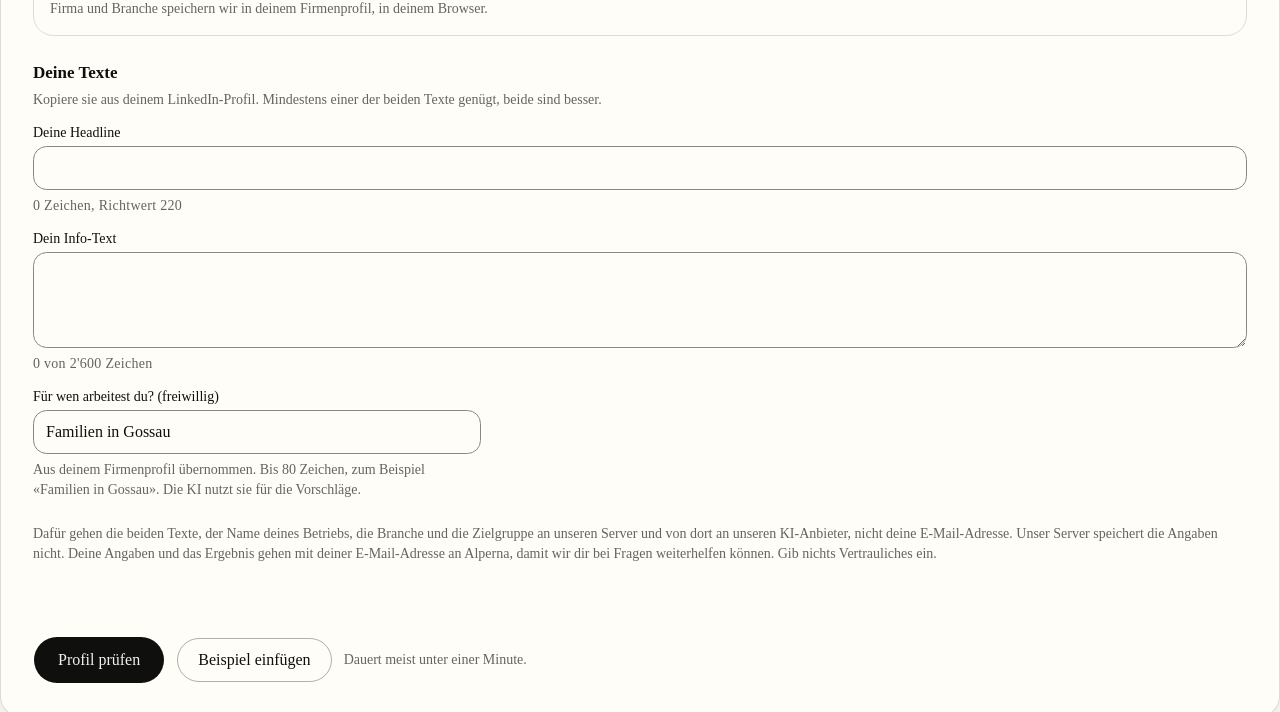
LinkedIn-Profil im Browser › holt die Vorschläge bei «Vorschläge neu schreiben» nach und schickt sie erneut ins CRM
This screenshot has width=1280, height=712.
(page scrolled)
What coordinates should you click on to do the following:
click the button "Beispiel einfügen"
I would click on:
 (254, 660)
Its box is [177,638,332,682].
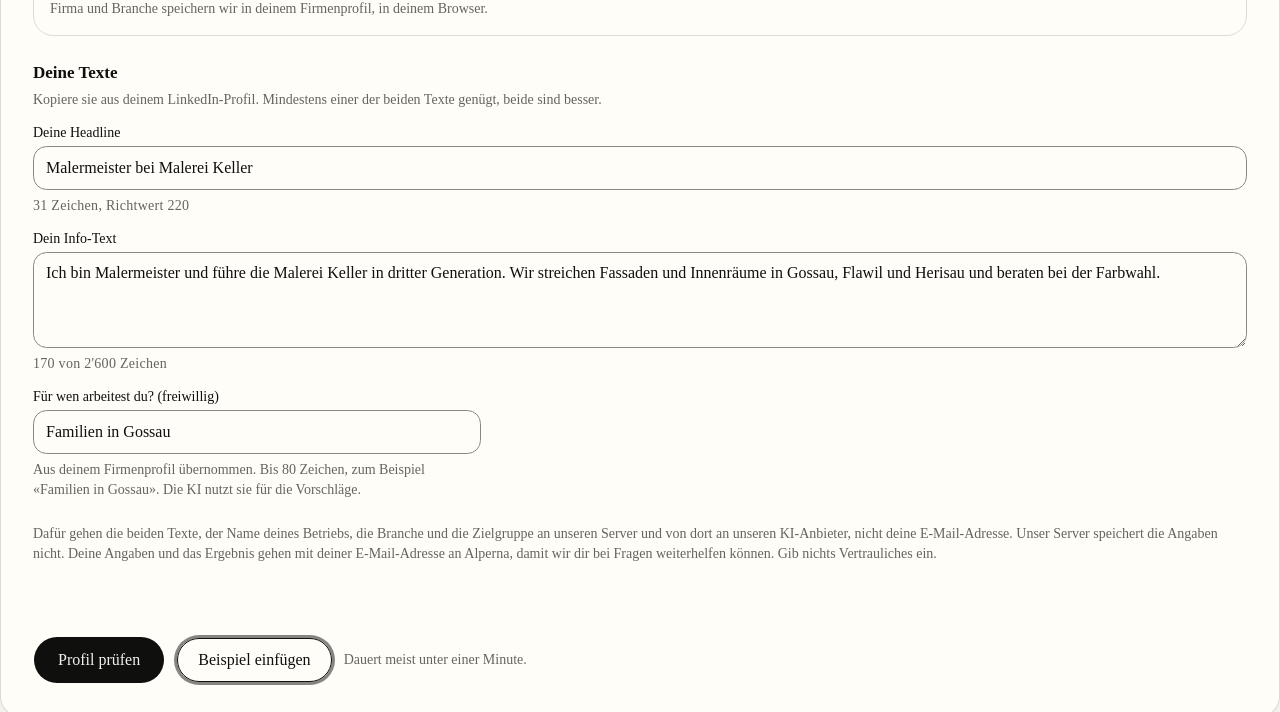
What coordinates should you click on to do the following:
click the button "Profil prüfen"
I would click on:
 (99, 660)
Its box is [33,636,165,684].
(page scrolled)
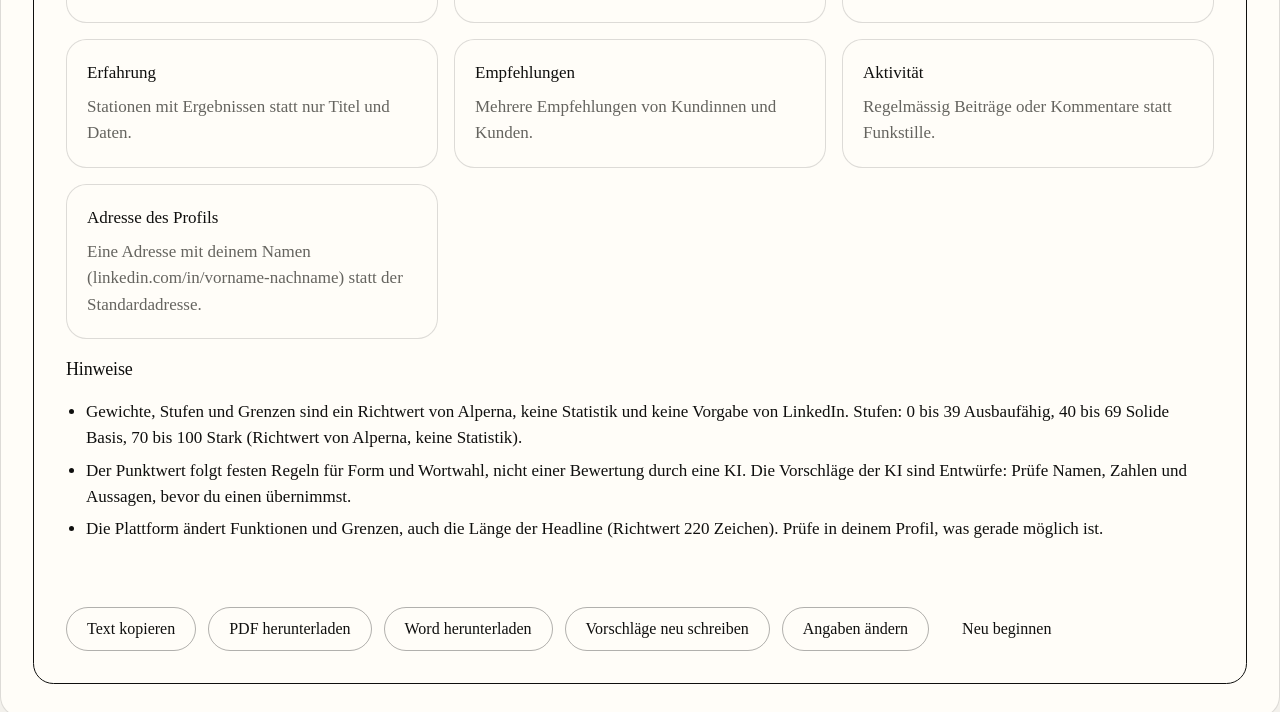
What coordinates should you click on to do the following:
click the button "Vorschläge neu schreiben"
I would click on:
 (667, 629)
Its box is [565,607,770,651].
(page scrolled)
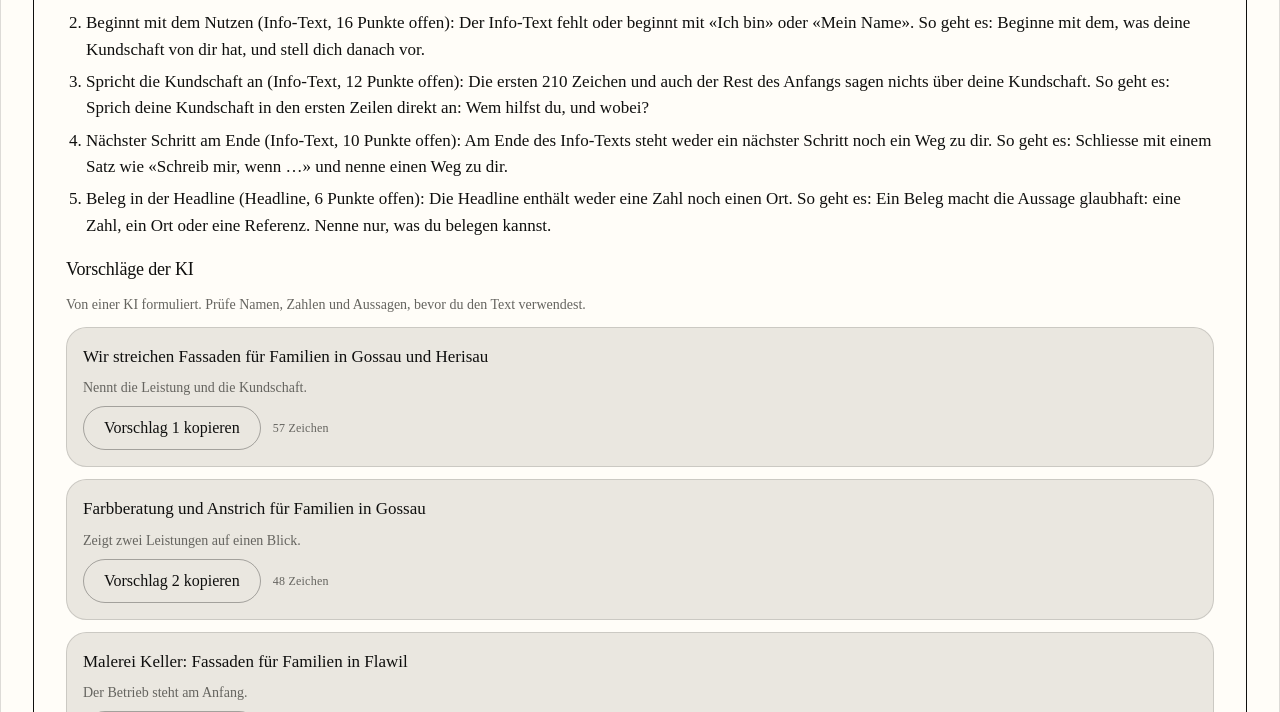
Check: the list item with test id "lp-headline-1" shows "Wir streichen Fassaden für Familien in Gossau und Herisau", box [83,347,488,366]
